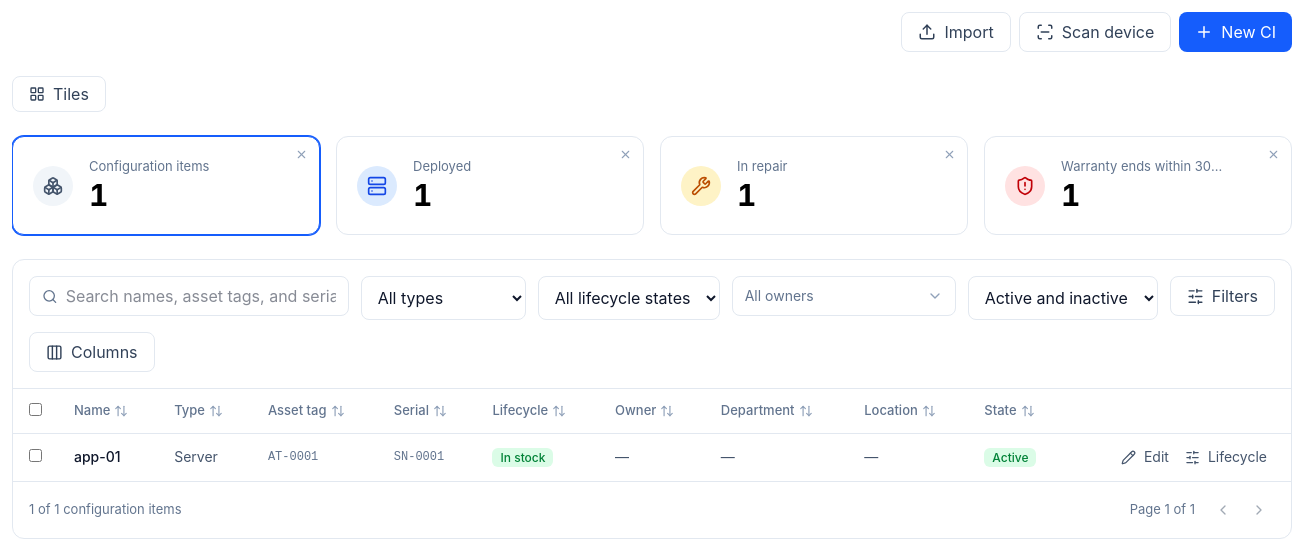
CiListPage › clears the owner filter back to all owners
Check: the link "app-01" is shown, box [74,448,121,465]
Click the dropdown named "Filter by owner" at (834, 296), box [745,286,923,306]
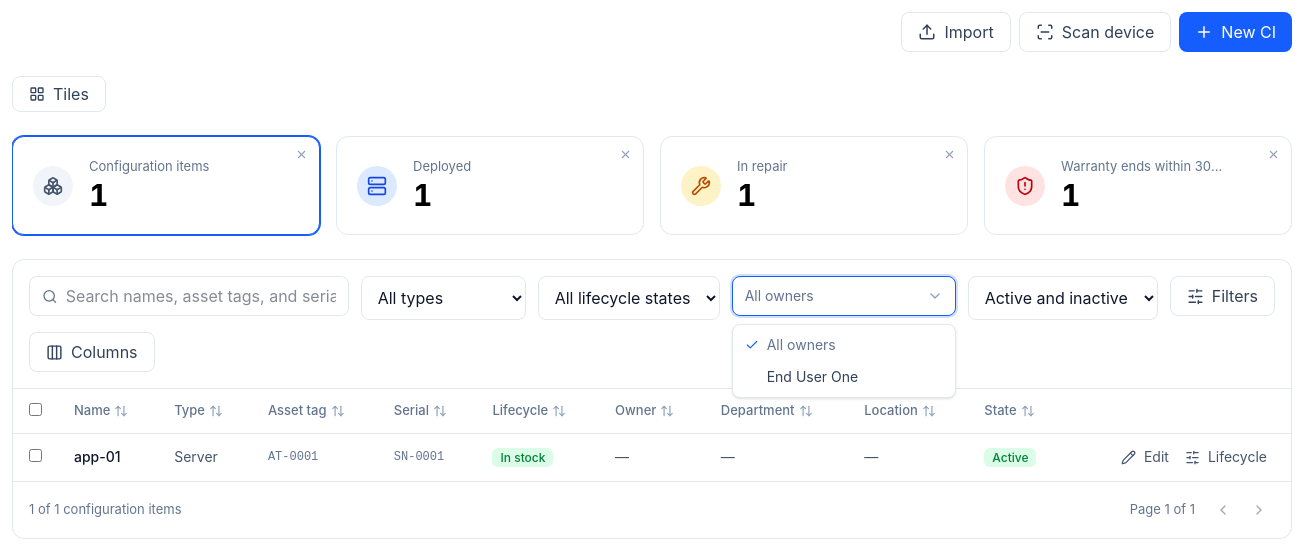
Click the option "End User One" at (812, 376), box [767,368,858,385]
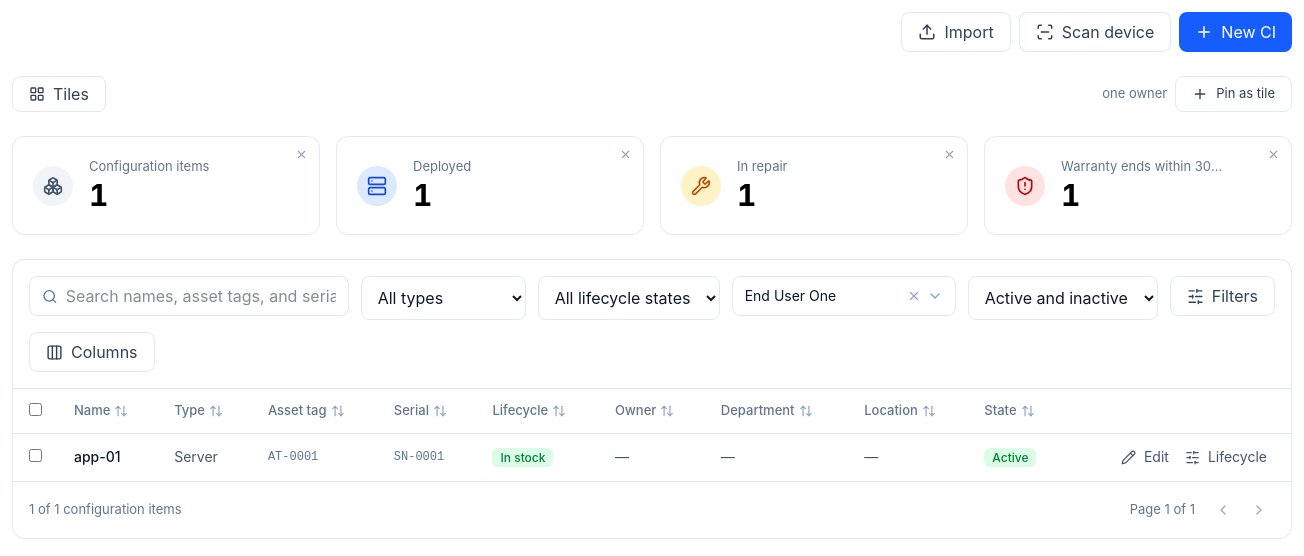
Click the button named "Clear Filter by owner" at (914, 296), box [905,287,923,305]
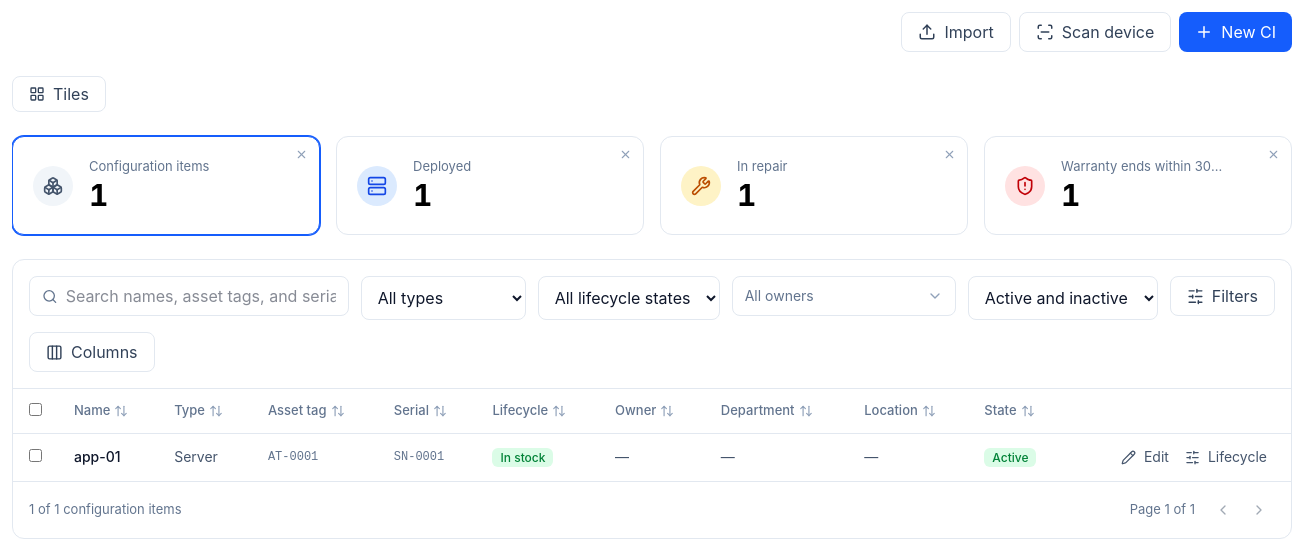
Check: the dropdown named "Filter by owner" is empty, box [745,286,923,306]
